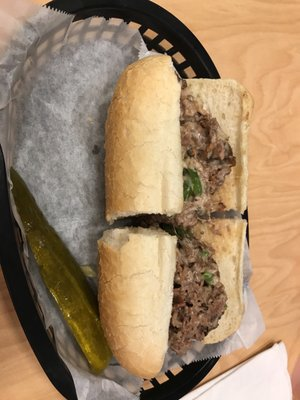soup: (99, 58, 254, 386)
